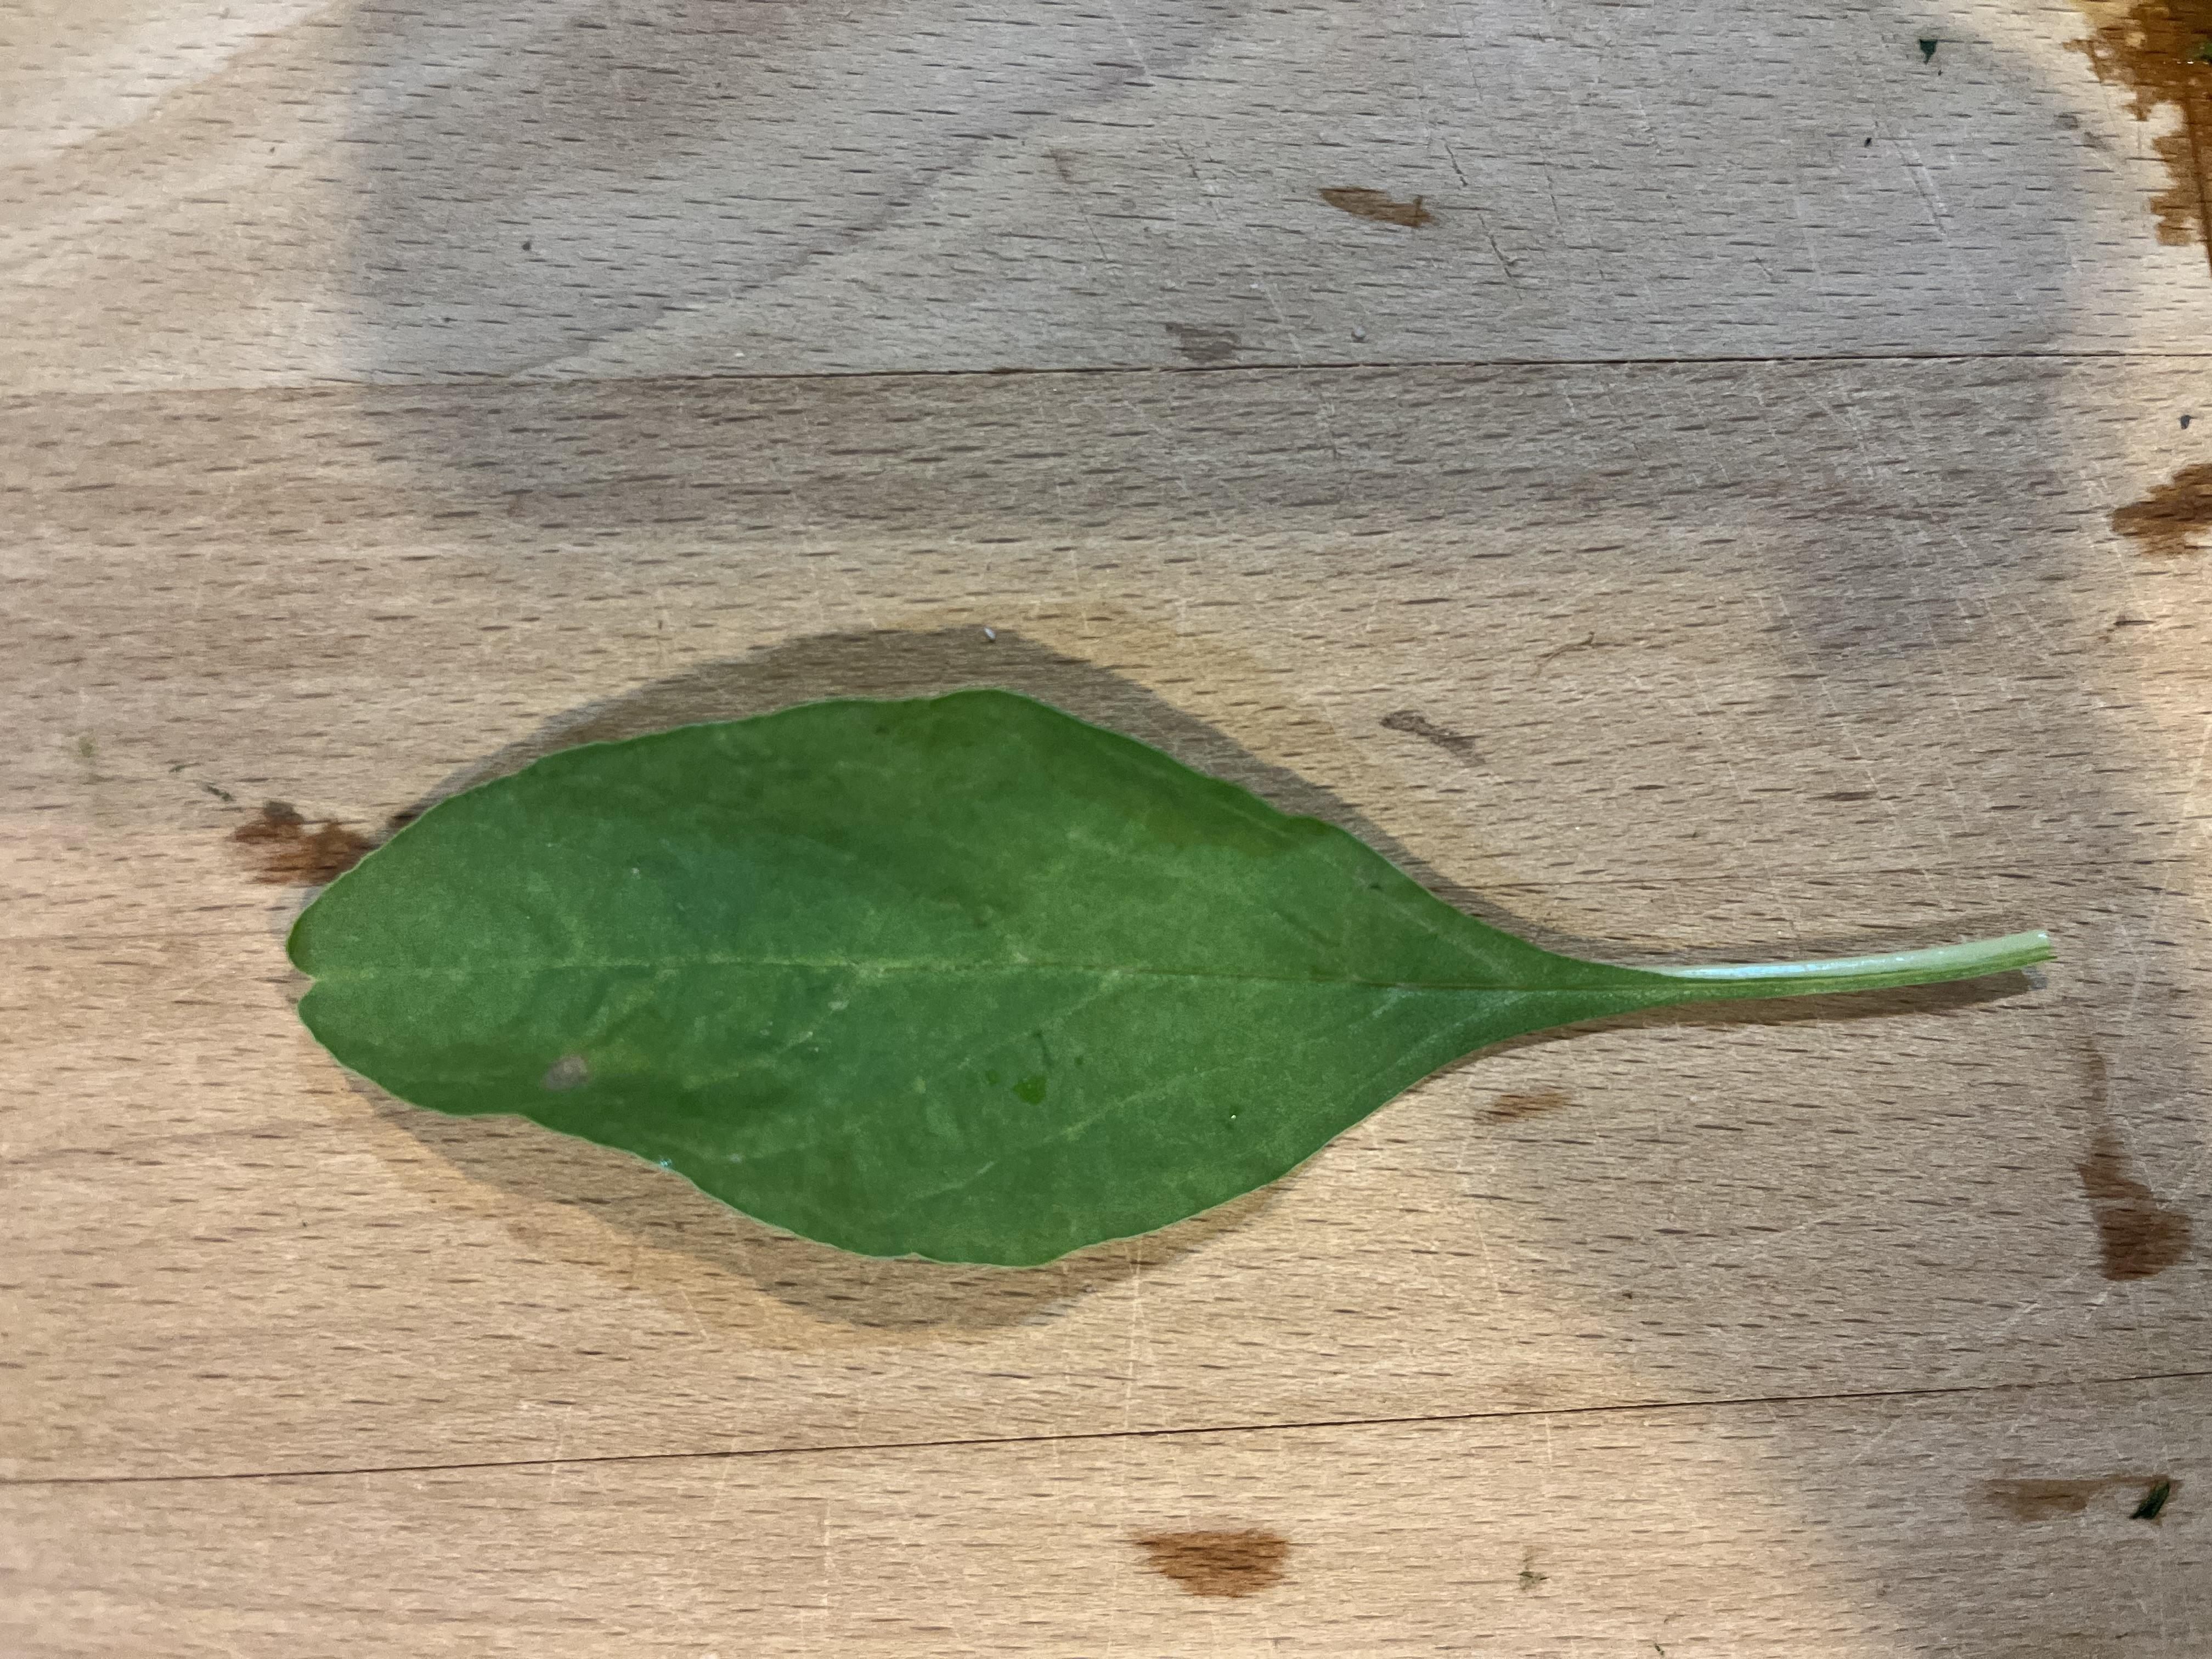Healthy-Pechay: (378, 615, 1832, 1476)
